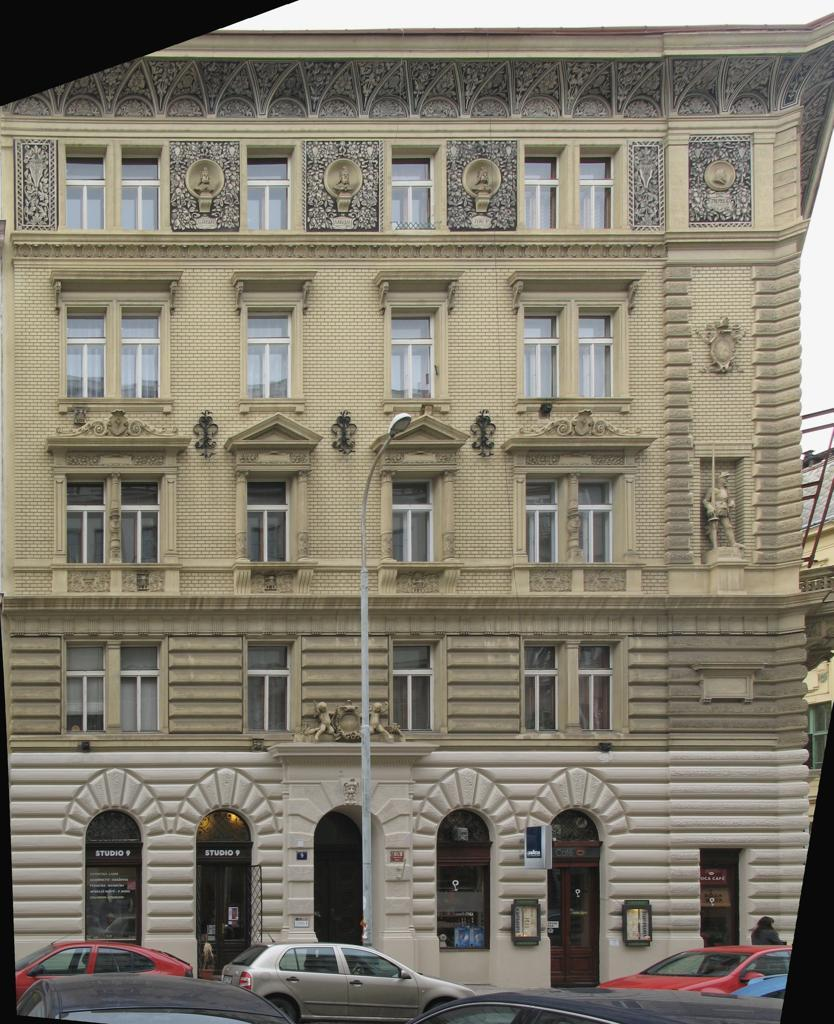window: (437, 808, 492, 952), (86, 807, 141, 951), (392, 472, 442, 563), (247, 642, 295, 733), (391, 145, 442, 230), (248, 307, 295, 399), (248, 470, 295, 562), (392, 308, 439, 399), (393, 641, 440, 732), (579, 472, 624, 564), (579, 641, 624, 732), (248, 146, 296, 230), (525, 642, 568, 733), (121, 641, 162, 735), (524, 145, 569, 229), (66, 641, 106, 735), (66, 145, 109, 230), (121, 145, 164, 230), (579, 307, 619, 398), (66, 307, 105, 399), (122, 308, 161, 400), (525, 307, 564, 398), (580, 145, 622, 229), (67, 474, 106, 564), (527, 473, 566, 563), (121, 474, 160, 563)
